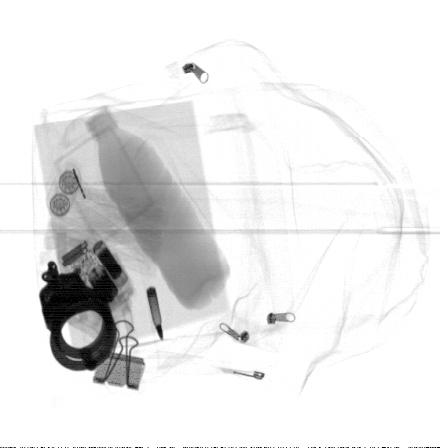Bullet: (146, 284, 164, 344)
HandCuffs: (38, 260, 117, 373)
